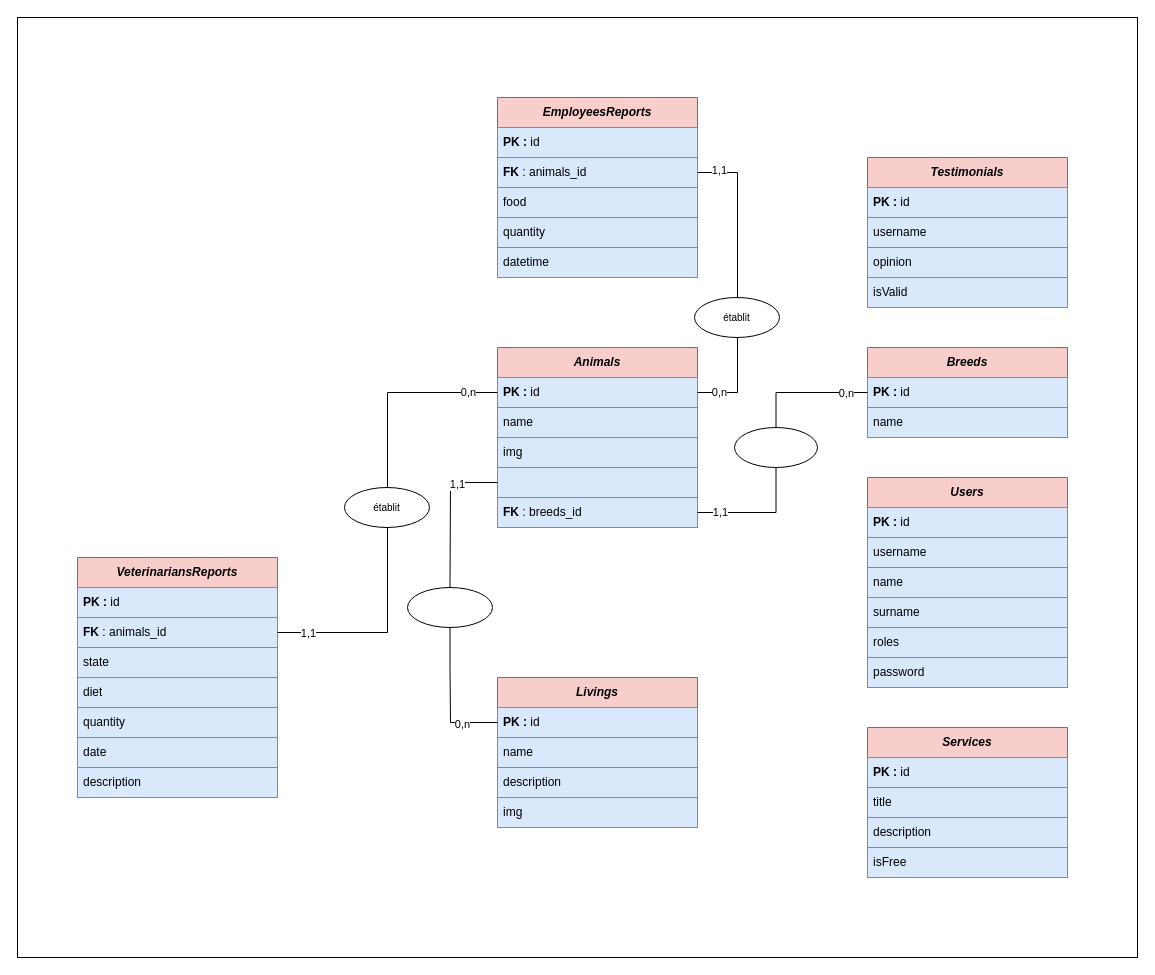
Some shapes in this 1155 by 975 pixel diagram are drawn without their labels. Each missing label, with the centre of its shape:
detient: (x=449, y=607)
dispose: (x=776, y=447)
FK : livings_id: (x=597, y=482)
